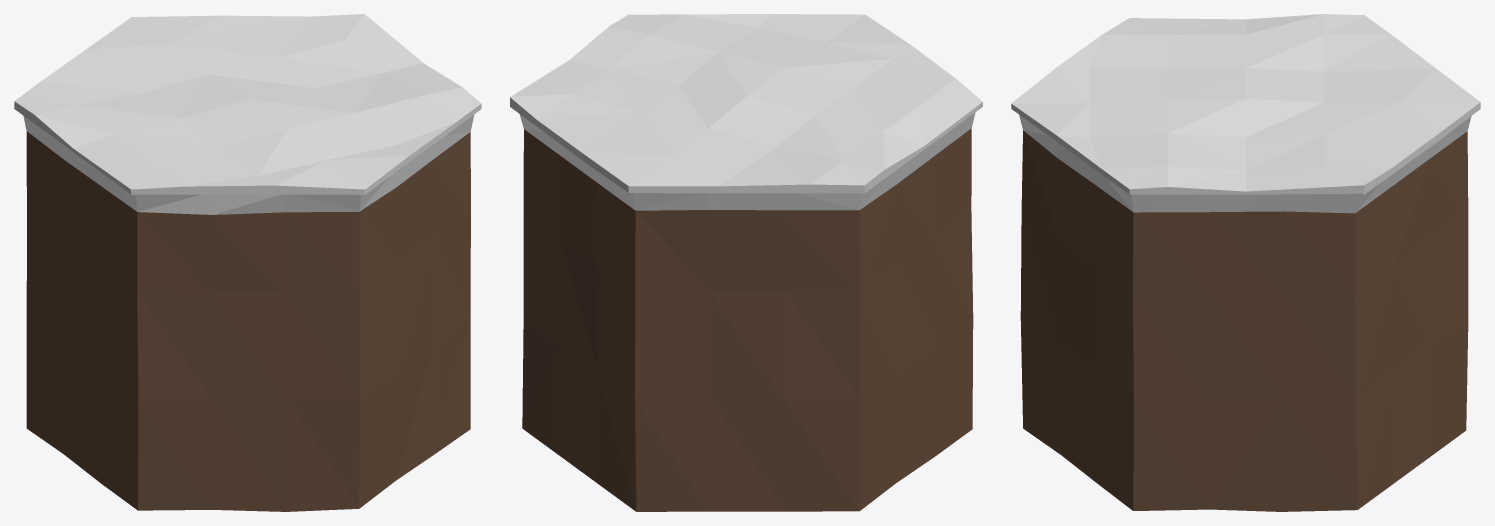
Rendered from hexagonTile-land02.fbx.
3 views of the same model, side by side, from view 1: azimuth 30°, elevation 25°; view 2: azimuth 150°, elevation 25°; view 3: azimuth 270°, elevation 25° (orthographic).
Visible parts, largest first — view 1: hexagonTile-land02; view 2: hexagonTile-land02; view 3: hexagonTile-land02.
Part boxes in pixels (x1,y1,x2,y2): hexagonTile-land02: (14,14,481,511); hexagonTile-land02: (510,14,982,511); hexagonTile-land02: (1011,14,1480,511).
Size of the model in its own units: 14.98 by 17.29 by 13.49.
